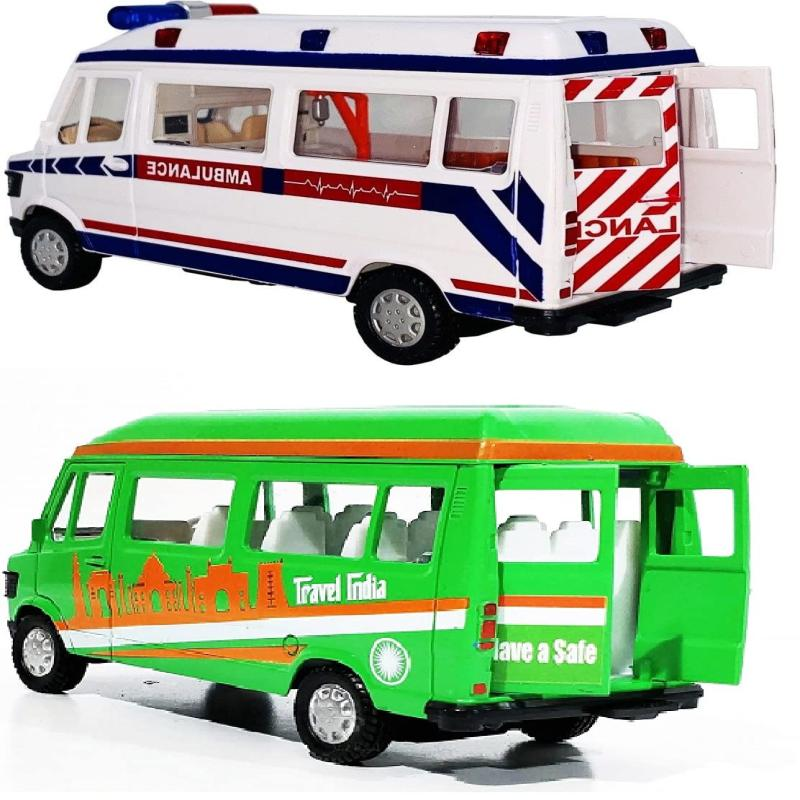AmbulanceSiren: (92, 0, 275, 38)
ambulance: (0, 0, 800, 375)
